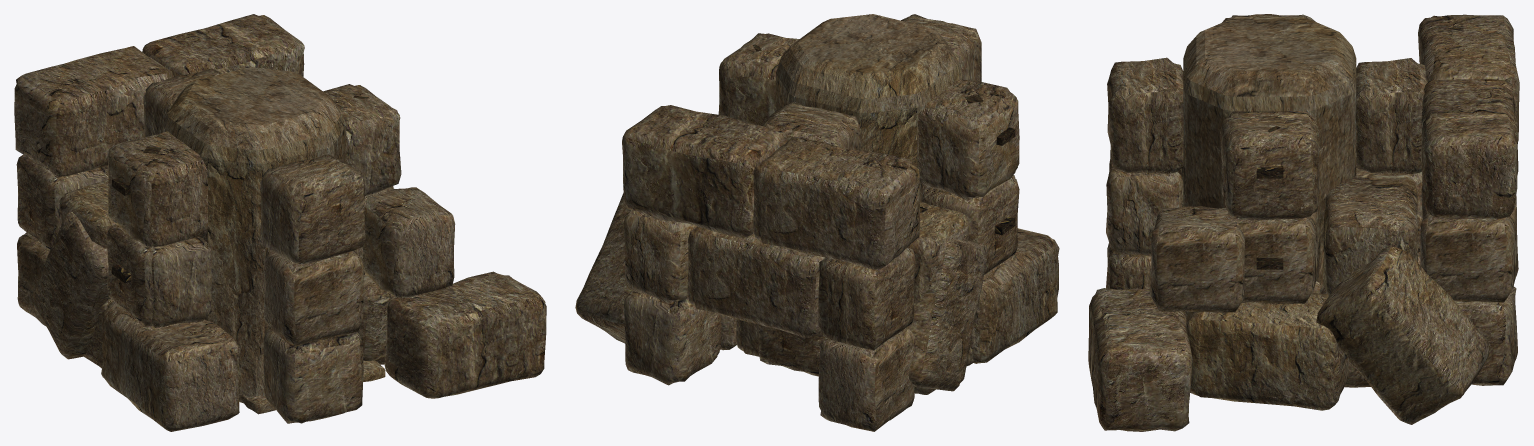
File: walls.glb
The picture shows the model from 3 angles, left to right: view 1: azimuth 30°, elevation 25°; view 2: azimuth 150°, elevation 25°; view 3: azimuth 270°, elevation 25°; orthographic projection. The views are drawn at different scales.
Visible parts, largest first — view 1: BrokenWall, Wall-cross, Wall-corner, Steps, Wall-tee, Wall, Wall-sides, Wall-end, Wall-solo, Road, Fence; view 2: Steps, Wall-cross, BrokenWall, Wall-corner, Wall-tee, Wall, Wall-end, Wall-sides, Fence, Wall-solo; view 3: BrokenWall, Steps, Wall-cross, Wall-end, Wall-tee, Wall-sides, Wall-corner, Wall, Fence.
Boxes of the visible parts, bbox=[...] form: BrokenWall: bbox=[32, 186, 546, 431]; Wall-cross: bbox=[107, 67, 401, 423]; Wall-corner: bbox=[108, 119, 365, 422]; Steps: bbox=[14, 14, 304, 368]; Wall-tee: bbox=[106, 69, 394, 423]; Wall: bbox=[110, 84, 400, 274]; Wall-sides: bbox=[130, 100, 401, 398]; Wall-end: bbox=[116, 72, 346, 334]; Wall-solo: bbox=[163, 118, 295, 398]; Road: bbox=[239, 360, 385, 414]; Fence: bbox=[112, 95, 368, 283]; Steps: bbox=[622, 105, 975, 431]; Wall-cross: bbox=[718, 14, 1019, 376]; BrokenWall: bbox=[575, 175, 1059, 391]; Wall-corner: bbox=[817, 16, 1019, 274]; Wall-tee: bbox=[719, 16, 1017, 276]; Wall: bbox=[722, 33, 1016, 211]; Wall-end: bbox=[776, 21, 1011, 239]; Wall-sides: bbox=[835, 76, 1015, 255]; Fence: bbox=[753, 44, 1015, 235]; Wall-solo: bbox=[838, 66, 958, 150]; BrokenWall: bbox=[1088, 206, 1491, 431]; Steps: bbox=[1312, 14, 1519, 387]; Wall-cross: bbox=[1106, 14, 1427, 304]; Wall-end: bbox=[1183, 17, 1356, 322]; Wall-tee: bbox=[1106, 14, 1356, 304]; Wall-sides: bbox=[1184, 44, 1319, 303]; Wall-corner: bbox=[1106, 16, 1237, 289]; Wall: bbox=[1222, 15, 1319, 263]; Fence: bbox=[1256, 126, 1283, 269].
Bounding box in the file's own units: 1.4 × 1.1 × 1.4.
1 material, 1 textured.
